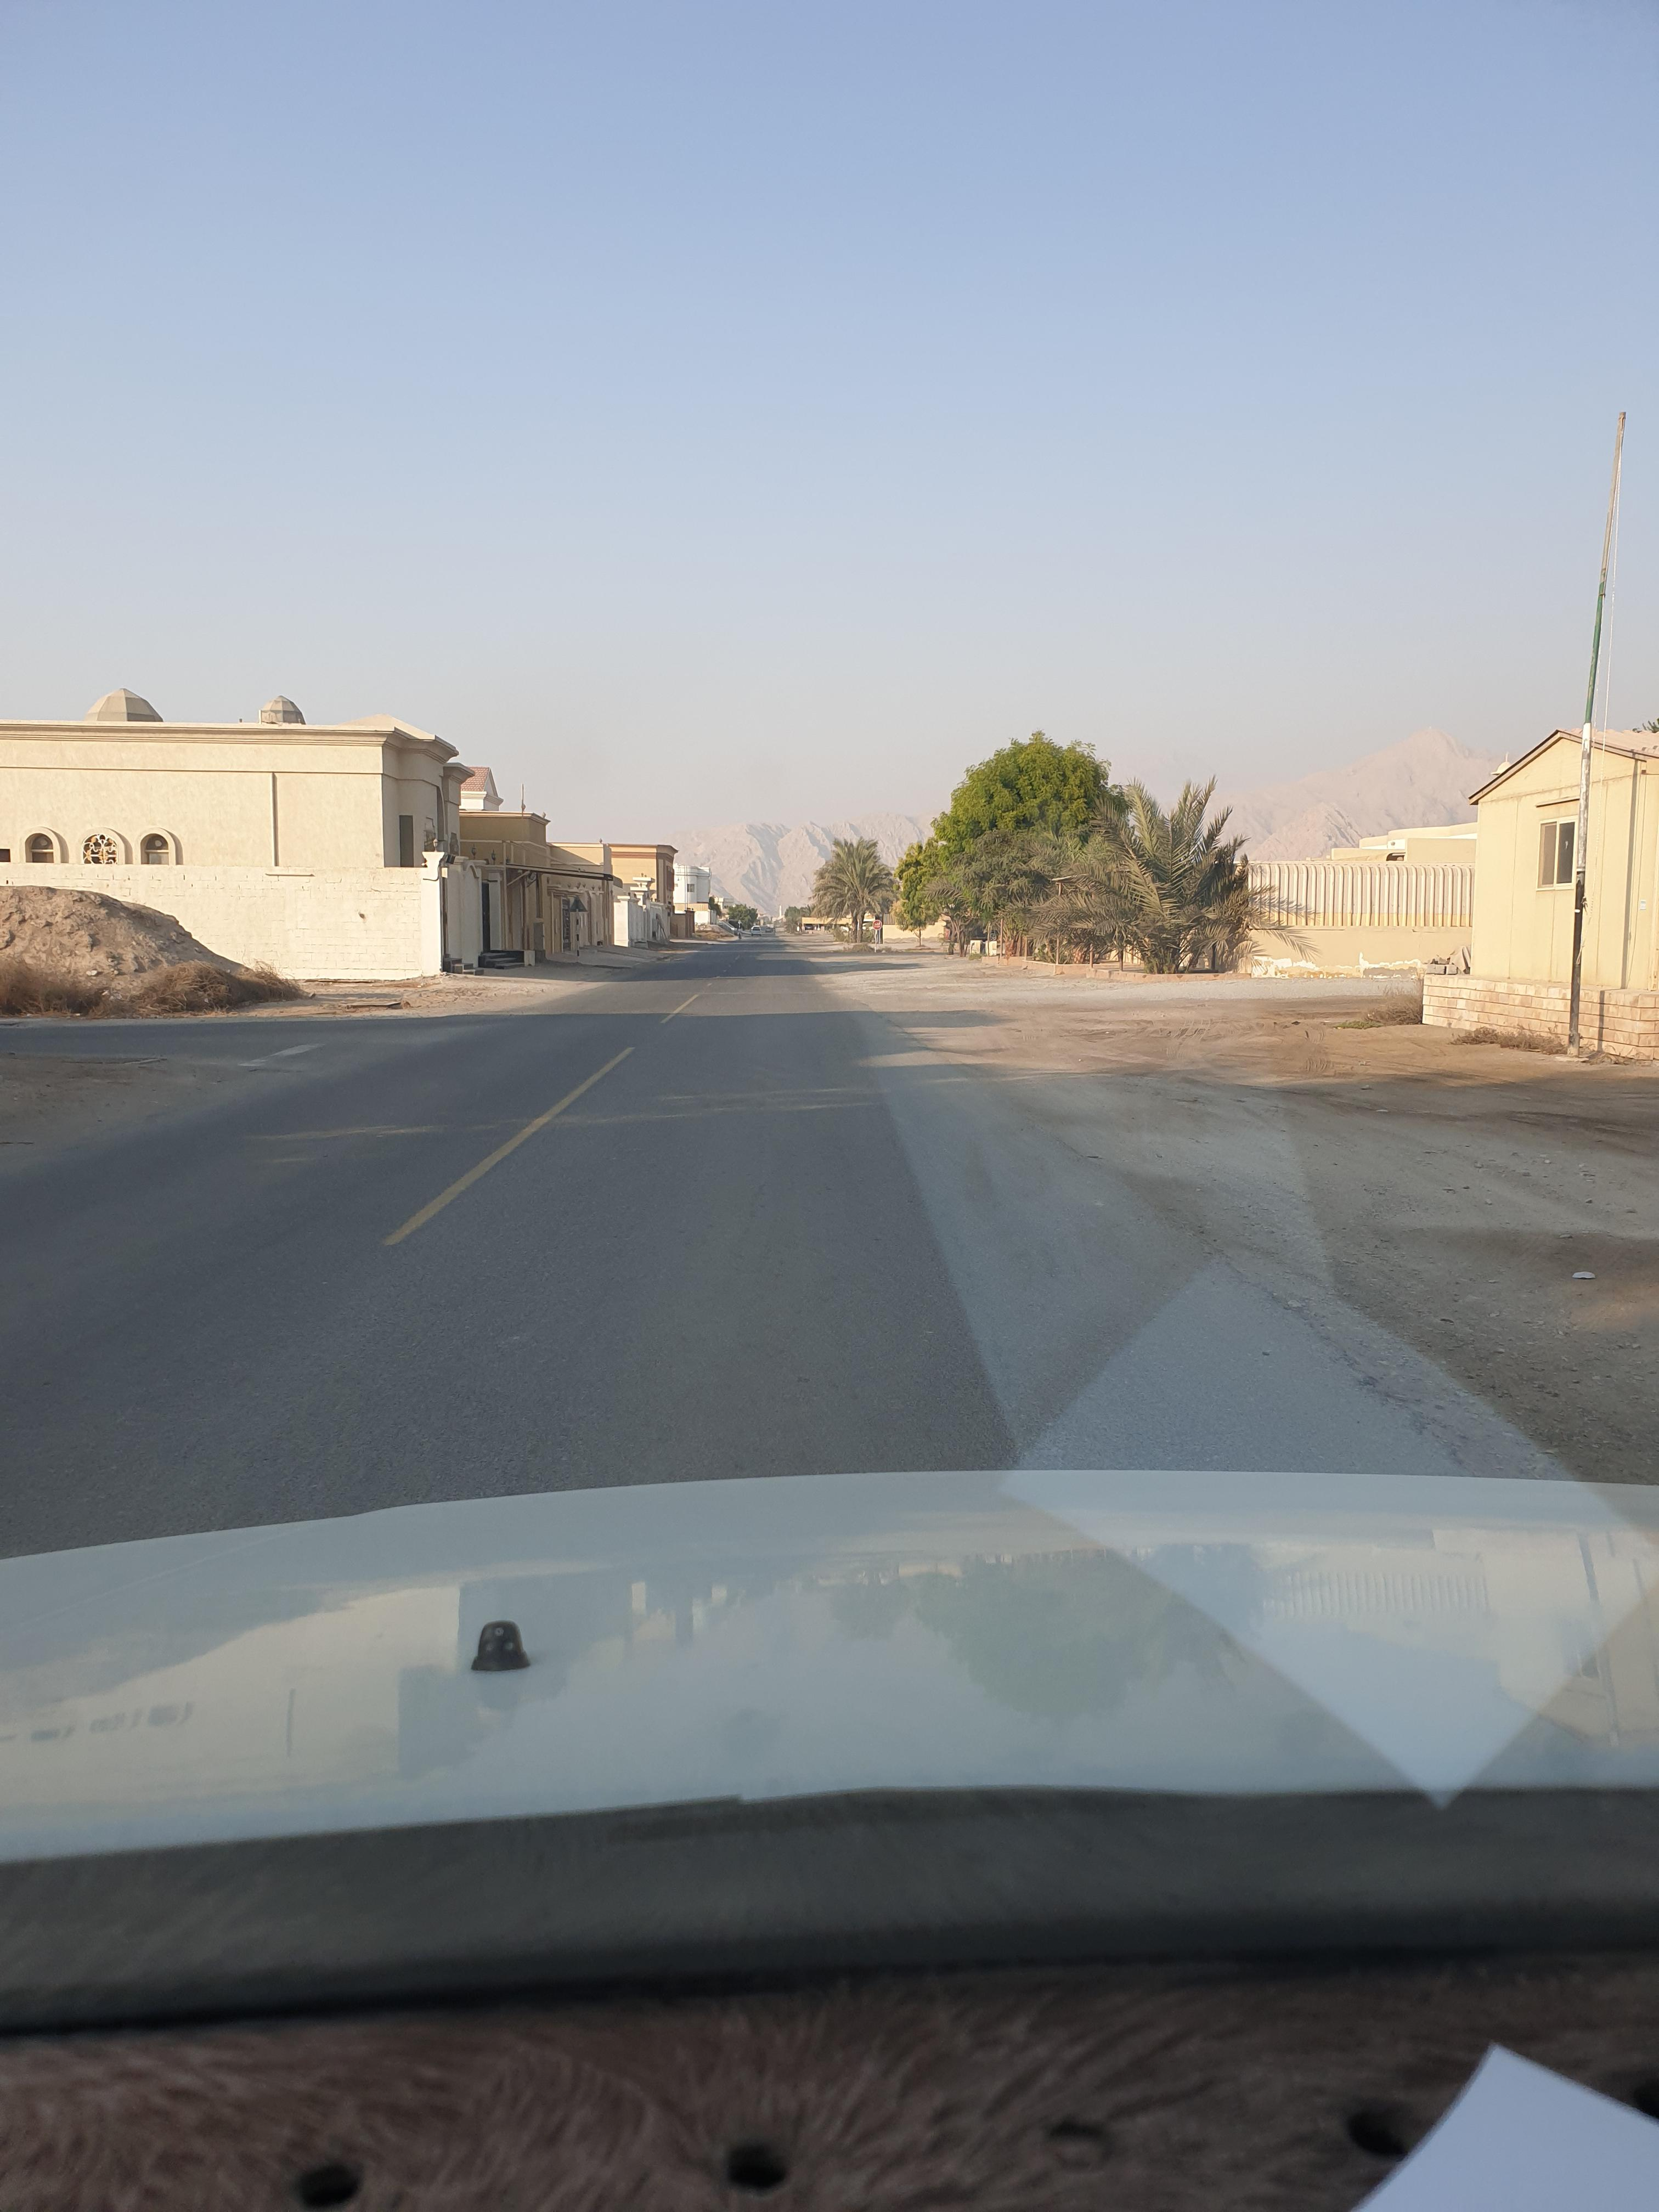fallen_trees: (127, 981, 303, 1024)
